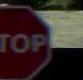Stop: (0, 5, 56, 78)
